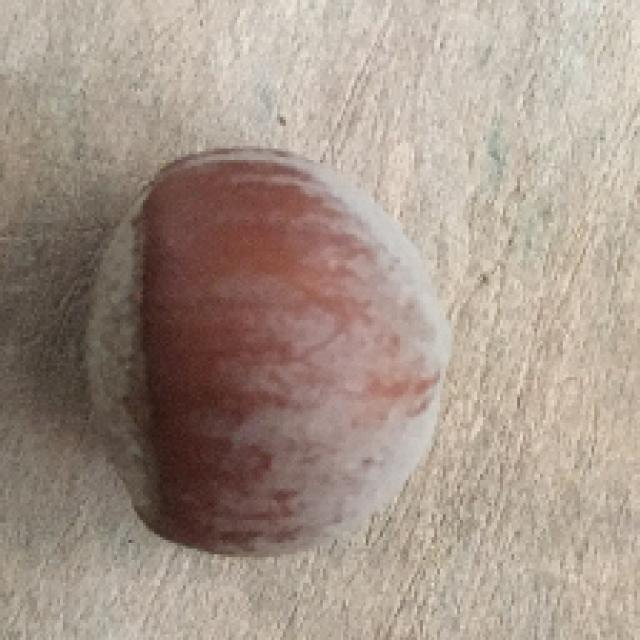qualityHazelnut: (81, 142, 453, 558)
